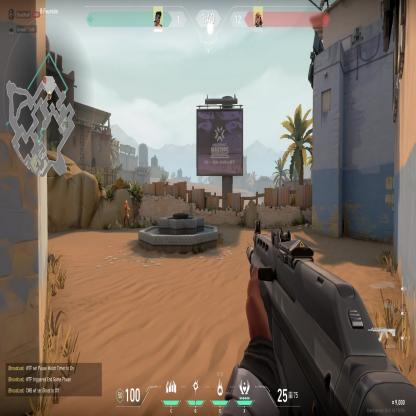enemy: (122, 200, 130, 231)
